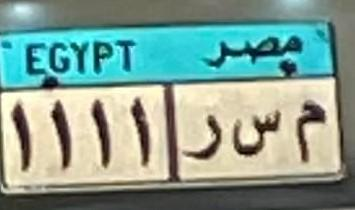1: (119, 94, 162, 168), (82, 91, 116, 171), (5, 101, 38, 176), (45, 99, 78, 168)
meem: (292, 100, 327, 166)
raa: (180, 109, 224, 168)
seen: (229, 107, 281, 163)
